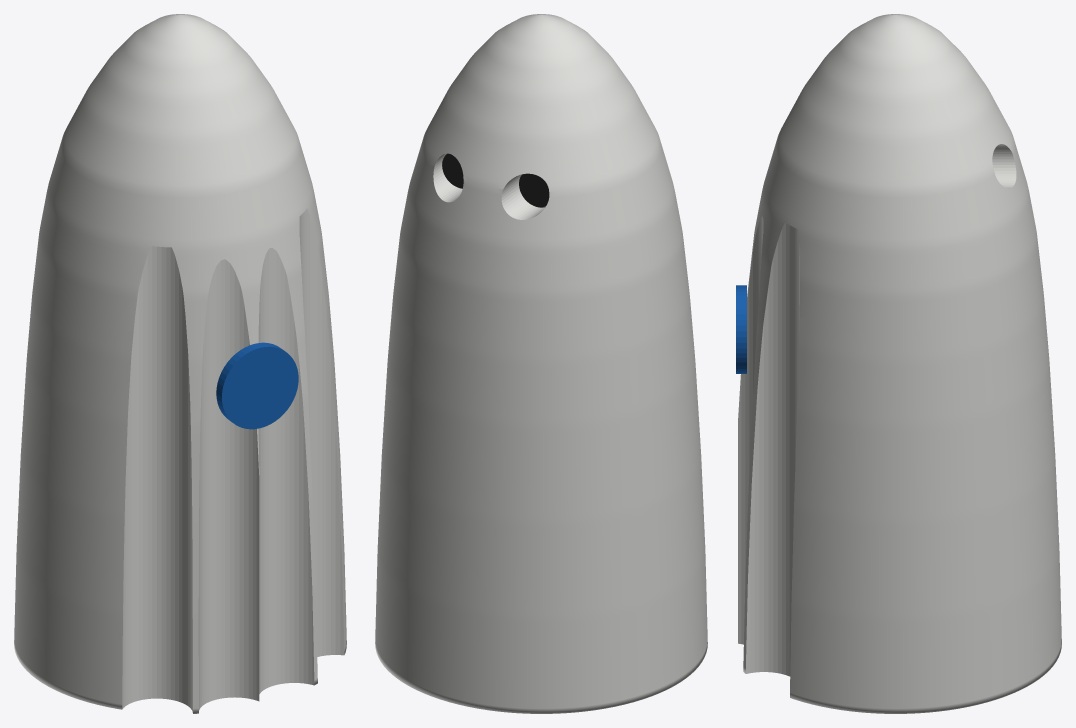
The model's file is ghost_blue.glb.
3 renders of one model, left to right at view 1: azimuth 30°, elevation 25°; view 2: azimuth 150°, elevation 25°; view 3: azimuth 270°, elevation 25°, orthographic.
Visible parts, largest first — view 1: ghost, marker; view 2: ghost, eyes; view 3: ghost, marker.
Boxes of the visible parts, left/top/right/bottom form: ghost: left=14, top=14, right=346, bottom=713; marker: left=216, top=342, right=298, bottom=429; ghost: left=375, top=14, right=707, bottom=713; eyes: left=442, top=153, right=549, bottom=207; ghost: left=738, top=14, right=1061, bottom=713; marker: left=736, top=285, right=746, bottom=373.
Bounding box in the file's own units: 0.024 × 0.05 × 0.0235.
